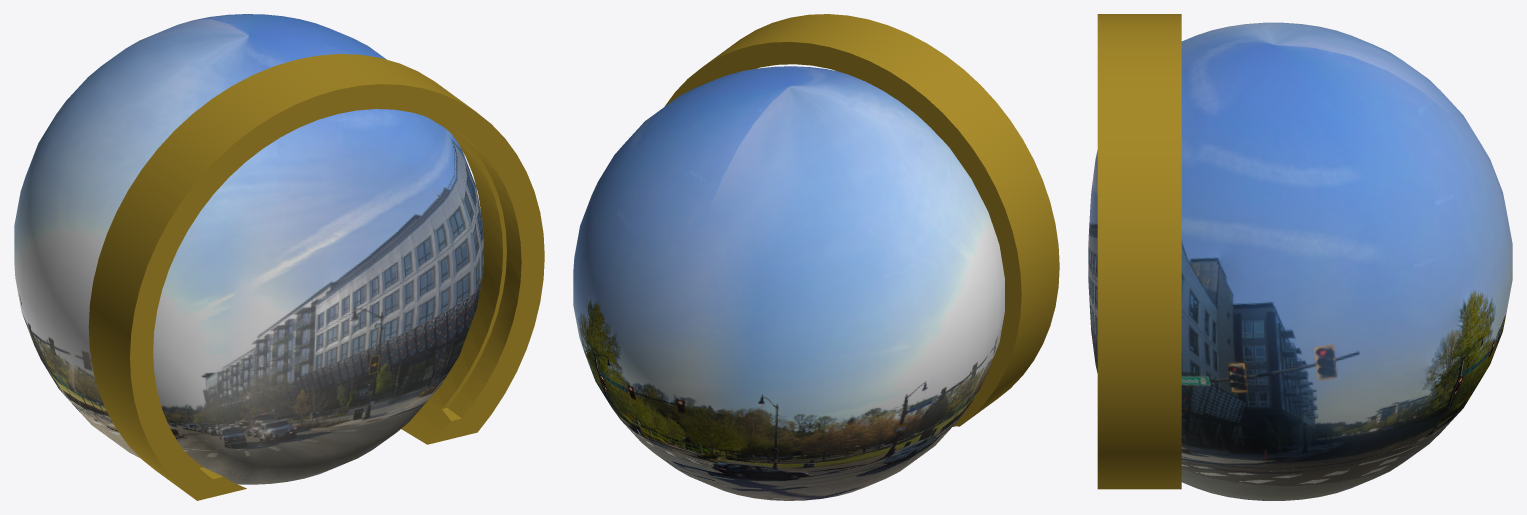
File: enter_the_portal_96.glb
3 renders of one model, left to right at view 1: azimuth 30°, elevation 25°; view 2: azimuth 150°, elevation 25°; view 3: azimuth 270°, elevation 25°, orthographic. The views are drawn at different scales.
Parts seen in each view (by area): view 1: Object003_mat_0_0, Tube002; view 2: Object003_mat_0_0, Tube002; view 3: Object003_mat_0_0, Tube002.
Part boxes in pixels (<box>): Object003_mat_0_0: <box>14,14,483,484</box>; Tube002: <box>88,54,544,500</box>; Object003_mat_0_0: <box>573,66,1004,500</box>; Tube002: <box>664,14,1059,426</box>; Object003_mat_0_0: <box>1088,22,1512,500</box>; Tube002: <box>1097,14,1181,489</box>.
Bounding box in the file's own units: 0.7632 × 0.7668 × 0.6653.
2 materials, 1 textured.
